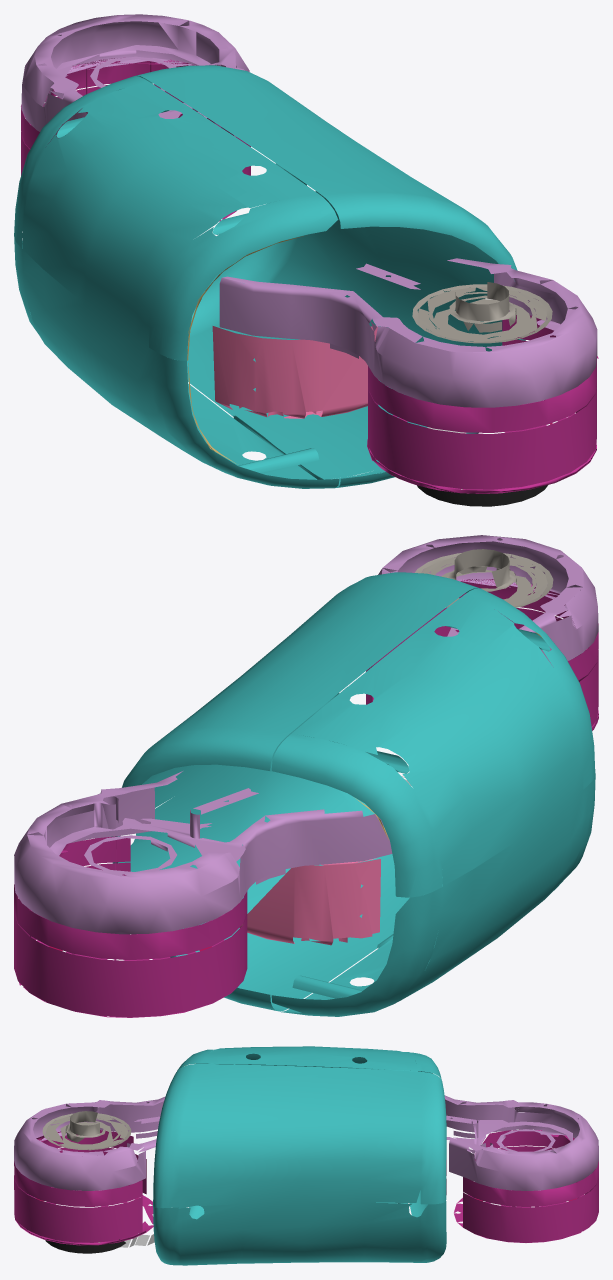
File: sim_icub3_r_lower_leg.obj
3 renders of one model, top to bottom at view 1: azimuth 30°, elevation 25°; view 2: azimuth 150°, elevation 25°; view 3: azimuth 270°, elevation 25°, orthographic. The views are drawn at different scales.
Bounding box in the file's own units: 137 × 117 × 341.
